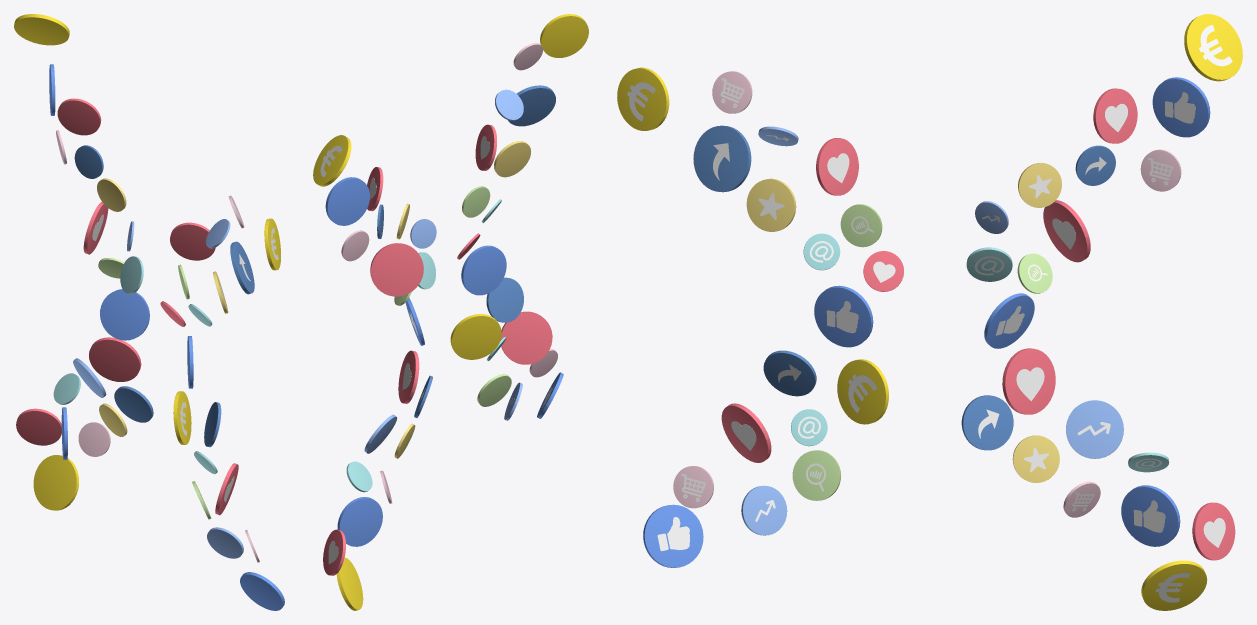
File: expansion6.glb
3 views of the same model, side by side, from view 1: azimuth 30°, elevation 25°; view 2: azimuth 150°, elevation 25°; view 3: azimuth 270°, elevation 25° (orthographic). The views are drawn at different scales.
Parts seen in each view (by area): view 1: piece_euro.001, piece_like.002, piece_coeur.005, piece_euro.002, piece_coeur.006, piece_coeur.001, piece_coeur.004, piece_like.004, piece_partager.001, piece_caddie.002, piece_fleche.002, piece_euro.004 (+13 smaller); view 2: piece_coeur.003, piece_coeur.007, piece_euro.004, piece_like.001, piece_like.003, piece_like.005, piece_euro.003, piece_euro.002, piece_partager.002, piece_partager.004, piece_etoile.001, piece_euro.001 (+15 smaller); view 3: piece_partager.004, piece_euro.002, piece_like.004, piece_coeur.005, piece_like.003, piece_like.001, piece_fleche.001, piece_like.005, piece_euro.004, piece_euro.003, piece_euro.001, piece_partager.001 (+24 smaller).
Part boxes in pixels (x1=…): piece_euro.001: x1=33, y1=455, x2=78, y2=510; piece_like.002: x1=100, y1=289, x2=149, y2=340; piece_coeur.005: x1=89, y1=337, x2=141, y2=381; piece_euro.002: x1=14, y1=14, x2=69, y2=45; piece_coeur.006: x1=16, y1=408, x2=61, y2=445; piece_coeur.001: x1=170, y1=222, x2=215, y2=260; piece_coeur.004: x1=57, y1=98, x2=101, y2=135; piece_like.004: x1=240, y1=572, x2=284, y2=610; piece_partager.001: x1=114, y1=386, x2=153, y2=422; piece_caddie.002: x1=78, y1=422, x2=110, y2=456; piece_fleche.002: x1=207, y1=527, x2=243, y2=558; piece_euro.004: x1=173, y1=391, x2=191, y2=444; piece_coeur.003: x1=370, y1=243, x2=423, y2=296; piece_coeur.007: x1=500, y1=311, x2=552, y2=364; piece_euro.004: x1=450, y1=314, x2=501, y2=359; piece_like.001: x1=461, y1=245, x2=506, y2=295; piece_like.003: x1=337, y1=497, x2=382, y2=546; piece_like.005: x1=325, y1=177, x2=369, y2=225; piece_euro.003: x1=540, y1=14, x2=588, y2=57; piece_euro.002: x1=313, y1=135, x2=351, y2=186; piece_partager.002: x1=486, y1=277, x2=523, y2=322; piece_partager.004: x1=508, y1=85, x2=555, y2=126; piece_etoile.001: x1=494, y1=141, x2=530, y2=177; piece_euro.001: x1=336, y1=557, x2=363, y2=610; piece_partager.004: x1=693, y1=125, x2=751, y2=192; piece_euro.002: x1=1184, y1=14, x2=1242, y2=81; piece_like.004: x1=643, y1=504, x2=703, y2=567; piece_coeur.005: x1=1002, y1=348, x2=1055, y2=414; piece_like.003: x1=1121, y1=485, x2=1180, y2=546; piece_like.001: x1=814, y1=285, x2=873, y2=347; piece_fleche.001: x1=1066, y1=400, x2=1123, y2=458; piece_like.005: x1=1152, y1=77, x2=1210, y2=137; piece_euro.004: x1=837, y1=359, x2=888, y2=424; piece_euro.003: x1=617, y1=67, x2=669, y2=130; piece_euro.001: x1=1141, y1=560, x2=1207, y2=610; piece_partager.001: x1=961, y1=395, x2=1013, y2=450.
Size of the model in its own units: 0.6899 by 6.92 by 6.6.
